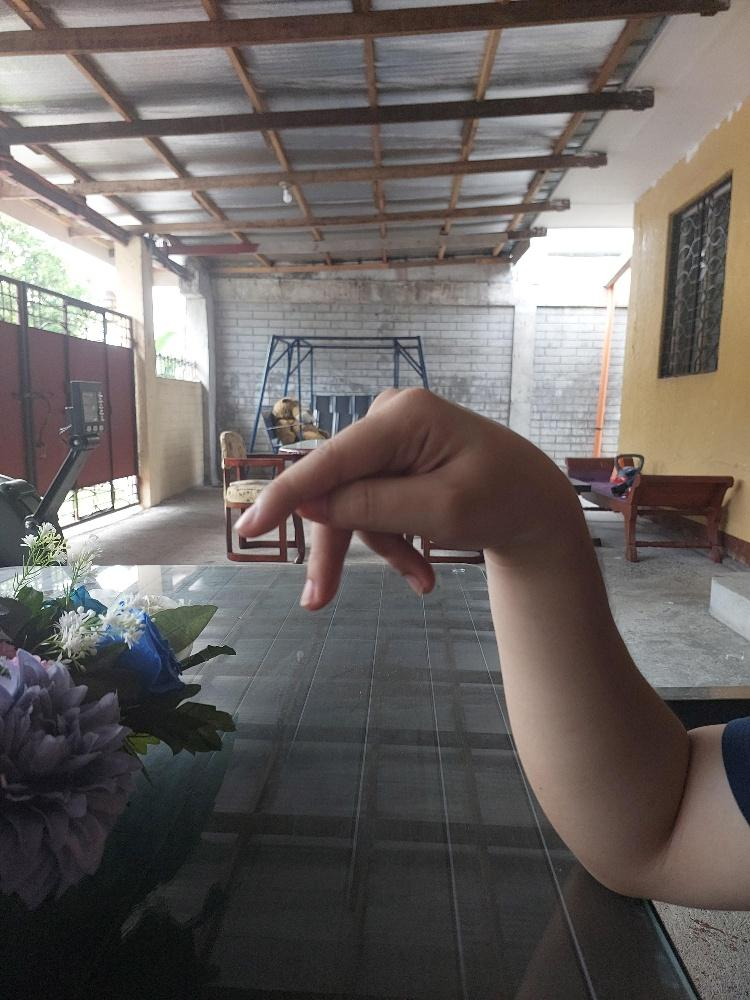p: (229, 379, 532, 615)
